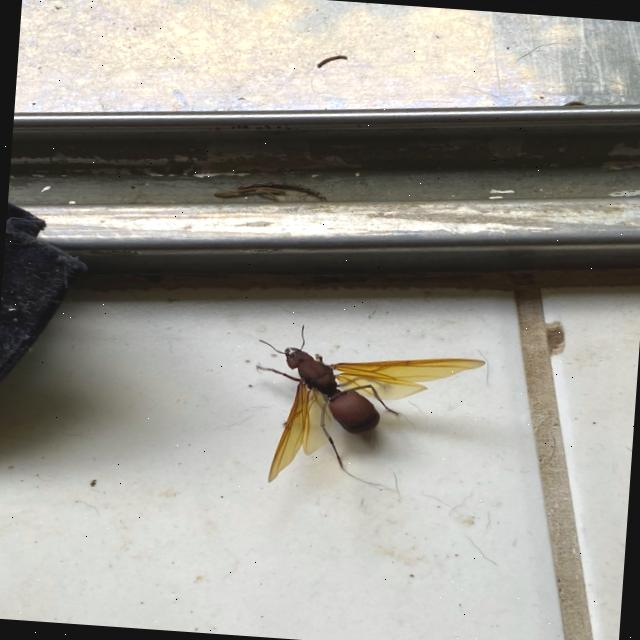Alive-Female-Alate: (246, 318, 490, 498)
